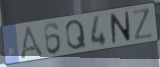4: (90, 14, 108, 48)
6: (43, 21, 63, 56)
A: (18, 24, 46, 59)
N: (109, 10, 132, 46)
Q: (64, 18, 88, 51)
Z: (130, 6, 155, 42)
